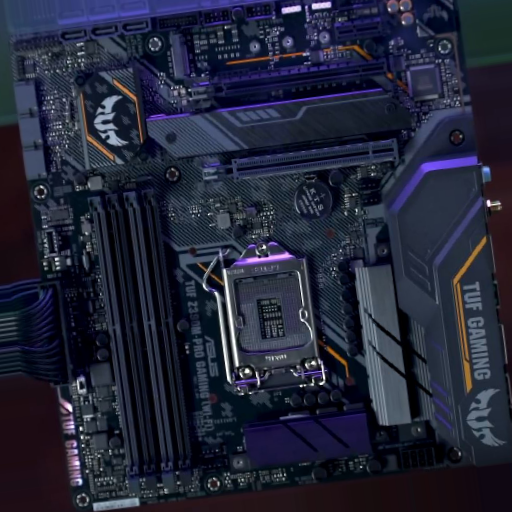CPU: (223, 240, 325, 388)
GPU: (180, 57, 388, 106), (200, 137, 401, 183)
MOTHERBOARD: (10, 1, 510, 506)
RAM: (86, 187, 197, 478)
SSD: (166, 34, 191, 81)
